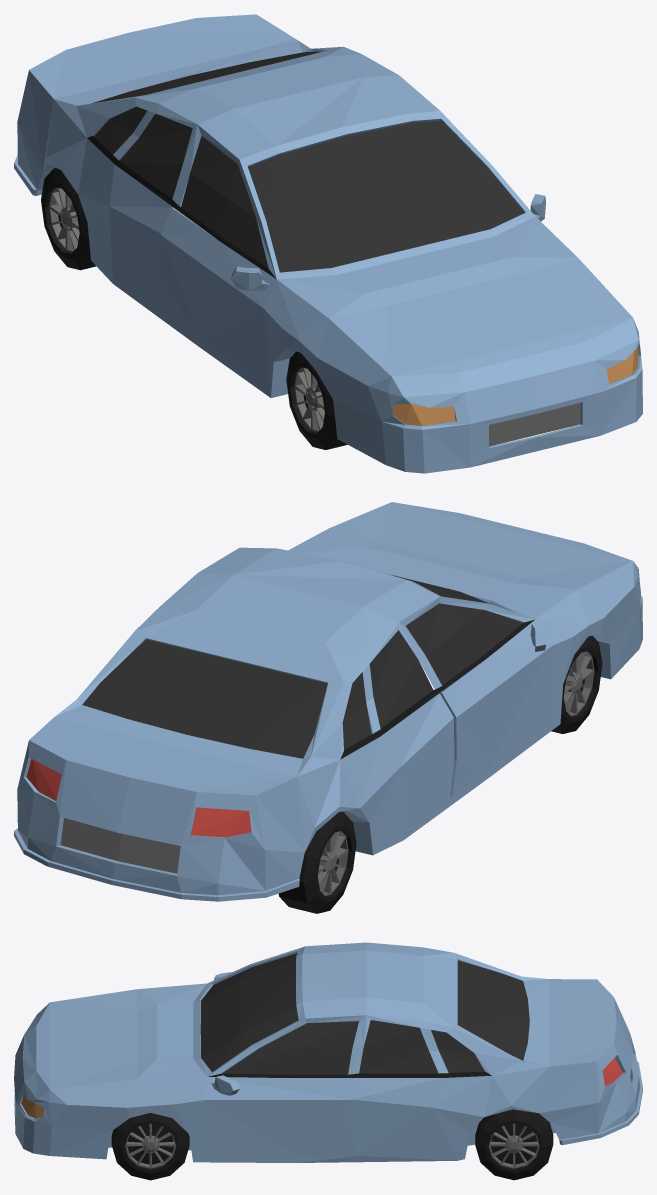
File: normal-car1.glb
3 views of the same model, one above another, from view 1: azimuth 30°, elevation 25°; view 2: azimuth 150°, elevation 25°; view 3: azimuth 270°, elevation 25° (orthographic). The views are drawn at different scales.
Parts seen in each view (by area): view 1: NormalCar1_Cube.012; view 2: NormalCar1_Cube.012; view 3: NormalCar1_Cube.012.
Boxes of the visible parts, x1=… form: NormalCar1_Cube.012: x1=14, y1=14, x2=642, y2=473; NormalCar1_Cube.012: x1=14, y1=502, x2=642, y2=913; NormalCar1_Cube.012: x1=14, y1=942, x2=642, y2=1180.
Size of the model in its own units: 1.81 by 1.18 by 4.22.
1 material, 1 textured.
